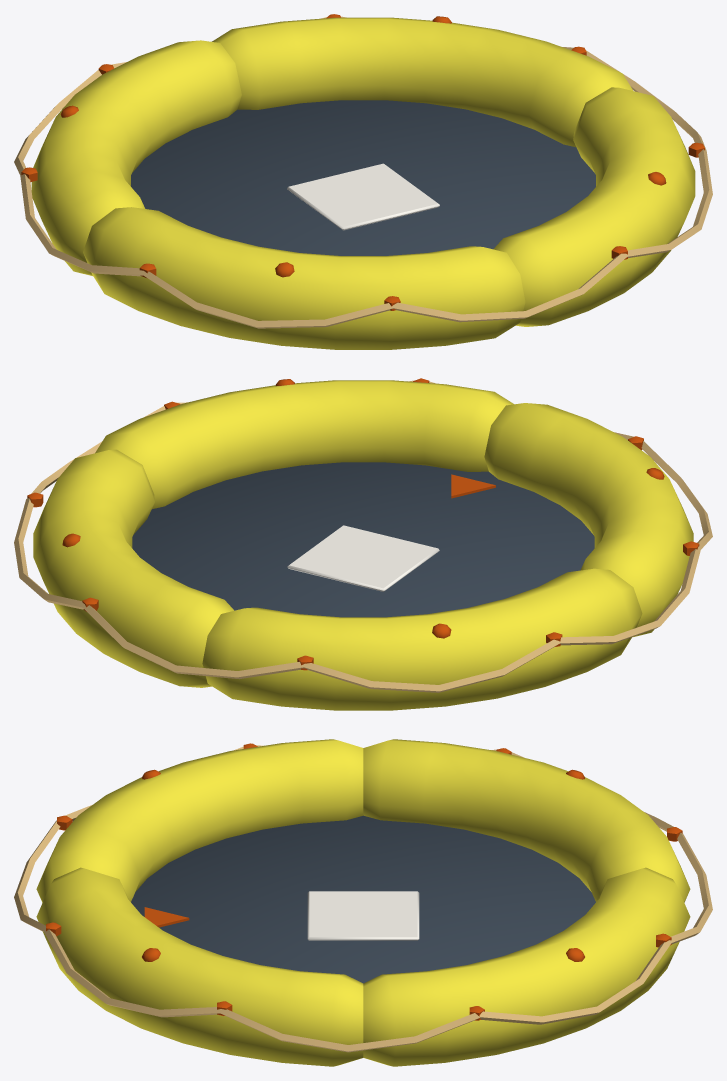
The model's file is MiniRaft_J3.fbx.
3 views of the same model, one above another, from view 1: azimuth 30°, elevation 25°; view 2: azimuth 150°, elevation 25°; view 3: azimuth 270°, elevation 25° (orthographic).
Visible parts, largest first — view 1: Raft_Floor, Chamber_0_NE, Chamber_3_SO, Chamber_1_NO, Chamber_2_SE, Raft_Rope; view 2: Raft_Floor, Chamber_2_SE, Chamber_1_NO, Chamber_3_SO, Chamber_0_NE, Raft_Rope; view 3: Raft_Floor, Chamber_3_SO, Chamber_1_NO, Chamber_0_NE, Chamber_2_SE, Raft_Rope.
Boxes of the visible parts, x1,y1,x2,y2 form: Raft_Floor: (131,100,595,255); Chamber_0_NE: (83,207,525,349); Chamber_3_SO: (212,16,633,147); Chamber_1_NO: (493,87,695,326); Chamber_2_SE: (31,40,241,275); Raft_Rope: (14,14,712,328); Raft_Floor: (132,462,594,617); Chamber_2_SE: (202,568,642,710); Chamber_1_NO: (95,379,513,508); Chamber_3_SO: (33,449,233,687); Chamber_0_NE: (484,403,693,637); Raft_Rope: (14,378,712,692); Raft_Floor: (131,815,595,983); Chamber_3_SO: (363,867,690,1066); Chamber_1_NO: (36,867,363,1066); Chamber_0_NE: (36,739,363,902); Chamber_2_SE: (363,739,690,902); Raft_Rope: (14,743,712,1052).
Bounding box in the file's own units: 2.13 × 0.3 × 2.13.
